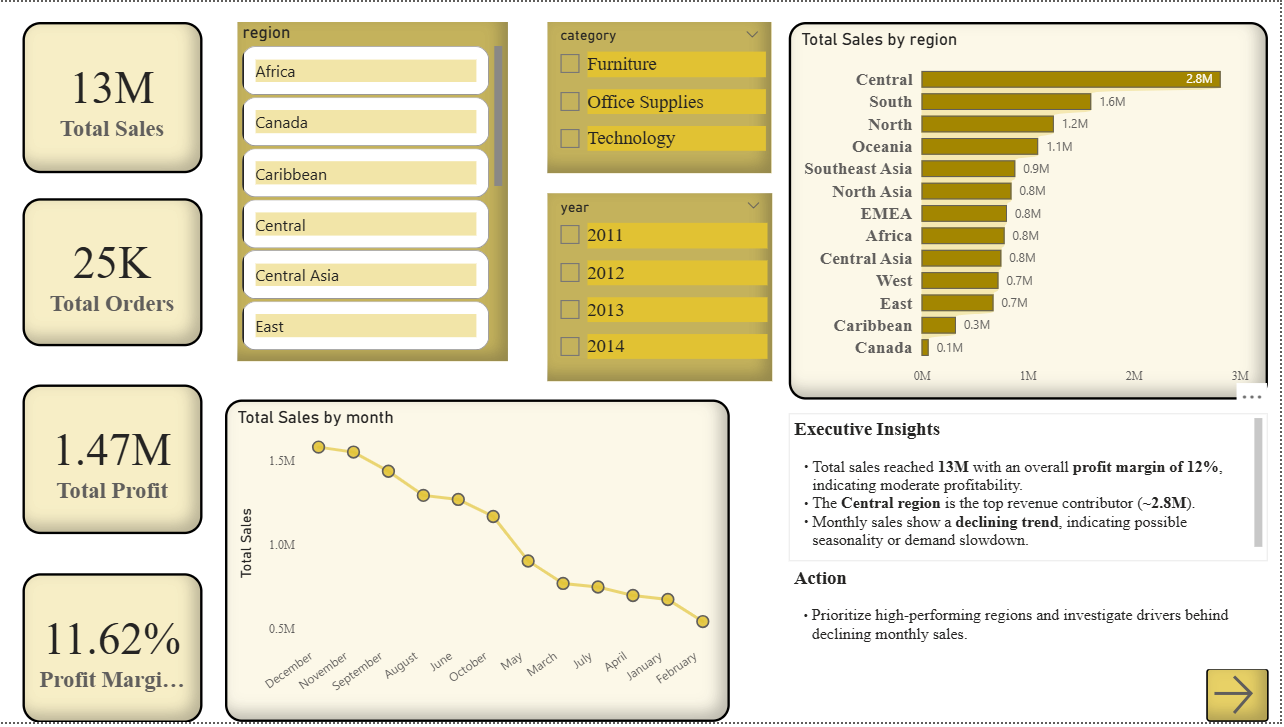

The page's visual inventory and layout, read from the dashboard file:
{"tool":"powerbi","page":{"name":"Executive Overview","canvas":[1280,720],"ordinal":0},"visuals":[{"type":"card","fields":{"Values":["SuperStoreOrders.Total Orders"]},"box":[22,196.2,179.8,148.2],"z":0},{"type":"card","fields":{"Values":["SuperStoreOrders.Total Profit"]},"box":[22,382.8,179.8,149.6],"z":1000},{"type":"card","fields":{"Values":["SuperStoreOrders.Total Sales"]},"box":[22,20.6,179.8,150.9],"z":2000},{"type":"card","fields":{"Values":["SuperStoreOrders.Profit Margin %"]},"box":[22,570.8,179.8,149.6],"z":3000},{"type":"lineChart","fields":{"Category":["SuperStoreOrders.month"],"Y":["SuperStoreOrders.Total Sales"]},"box":[225,397.9,505,322.5],"z":4000},{"type":"barChart","fields":{"Y":["SuperStoreOrders.Total Sales"],"Category":["SuperStoreOrders.region"]},"box":[789,20.6,478.9,377.4],"z":5000},{"type":"advancedSlicerVisual","fields":{"Values":["SuperStoreOrders.region"]},"box":[237.4,20.6,270.3,338.9],"z":6000},{"type":"slicer","fields":{"Values":["SuperStoreOrders.category"]},"box":[547.5,20.6,223.7,150.9],"z":7000},{"type":"slicer","fields":{"Values":["SuperStoreOrders.year"]},"box":[547.5,190.7,225,188],"z":8000},{"type":"actionButton","box":[1205.7,666.4,62.4,53.8],"z":9000},{"type":"textbox","box":[789,411.7,478.9,148.2],"z":9001},{"type":"textbox","box":[789,559.9,478.9,107],"z":9002}]}

Visuals, with their boxes in screenshot pixels (x1, y1, x2, y2), scaled from the page's 1280x720 canvas onto the 1284x727 screenshot:
card - SuperStoreOrders.Total Orders: <bbox>22, 198, 202, 348</bbox>
card - SuperStoreOrders.Total Profit: <bbox>22, 387, 202, 538</bbox>
card - SuperStoreOrders.Total Sales: <bbox>22, 21, 202, 173</bbox>
card - SuperStoreOrders.Profit Margin %: <bbox>22, 576, 202, 726</bbox>
lineChart - SuperStoreOrders.month x SuperStoreOrders.Total Sales: <bbox>226, 402, 732, 726</bbox>
barChart - SuperStoreOrders.Total Sales x SuperStoreOrders.region: <bbox>791, 21, 1272, 402</bbox>
advancedSlicerVisual - SuperStoreOrders.region: <bbox>238, 21, 509, 363</bbox>
slicer - SuperStoreOrders.category: <bbox>549, 21, 774, 173</bbox>
slicer - SuperStoreOrders.year: <bbox>549, 193, 775, 382</bbox>
actionButton: <bbox>1209, 673, 1272, 726</bbox>
textbox: <bbox>791, 416, 1272, 565</bbox>
textbox: <bbox>791, 565, 1272, 673</bbox>
